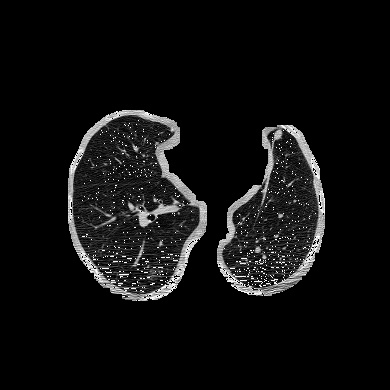PN: (145, 269, 157, 281)
